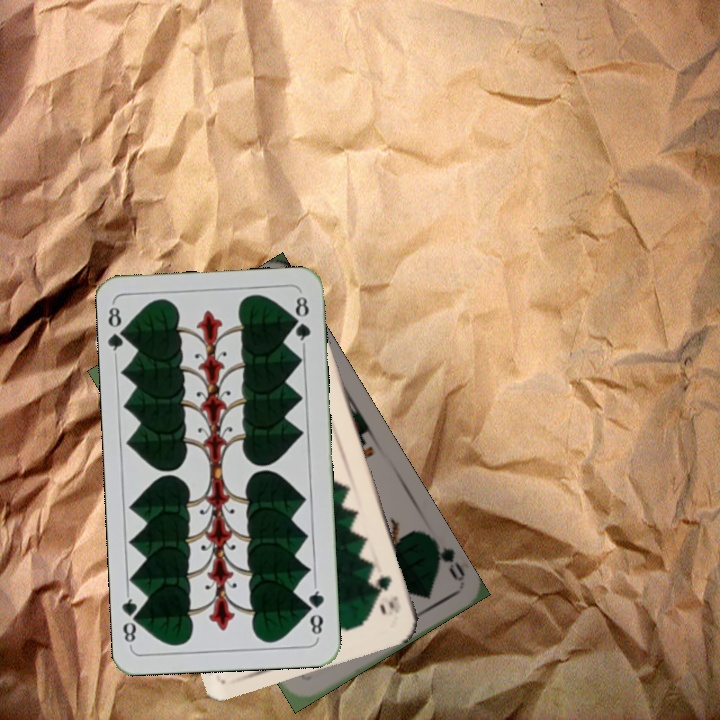G10: (372, 571, 404, 616)
G8: (104, 300, 132, 359), (303, 581, 327, 640)
GO: (425, 532, 468, 584)
